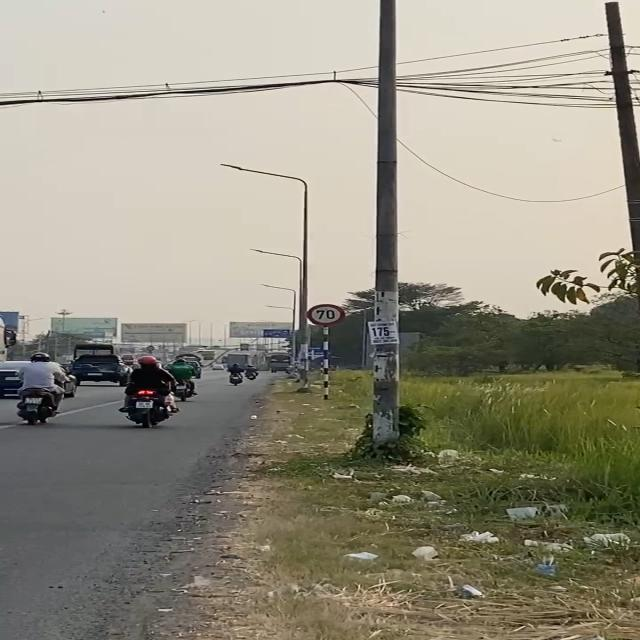127-toc-do-toi-da-70: (305, 303, 347, 327)
